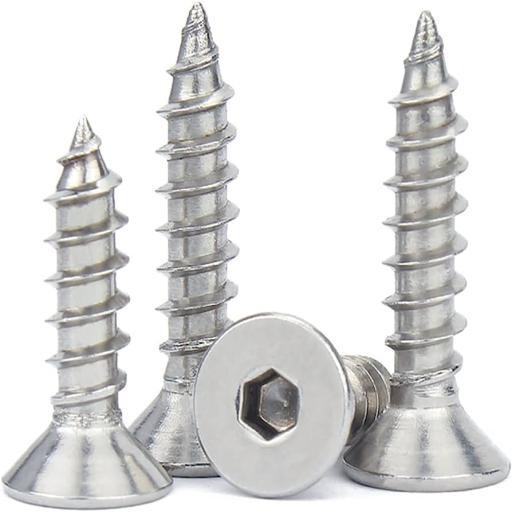Hex-Allen: (192, 309, 352, 499)
